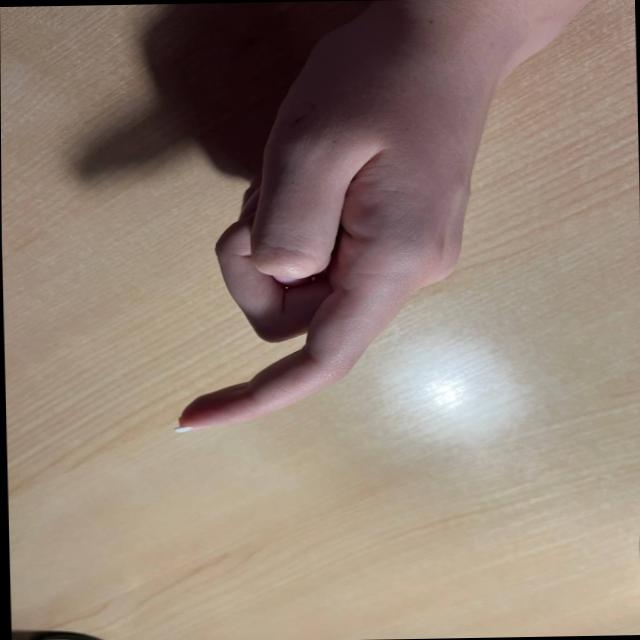kh: (142, 20, 483, 508)
